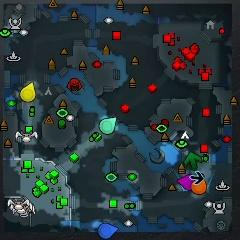p1: (99, 223, 119, 239)
p2: (100, 117, 117, 134)
p3: (178, 175, 193, 191)
p4: (21, 82, 36, 102)
p5: (191, 179, 207, 195)
x3Clone: (191, 171, 204, 185)
x4: (184, 153, 202, 170)
